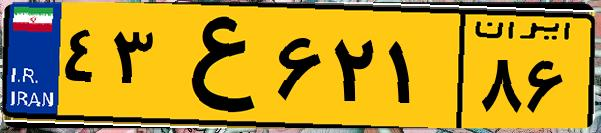1: (385, 28, 445, 110)
2: (330, 28, 385, 110)
3: (110, 28, 158, 98)
4: (57, 26, 110, 100)
6: (270, 28, 330, 110), (525, 38, 570, 115)
8: (475, 38, 525, 113)
ع: (158, 12, 270, 120)
